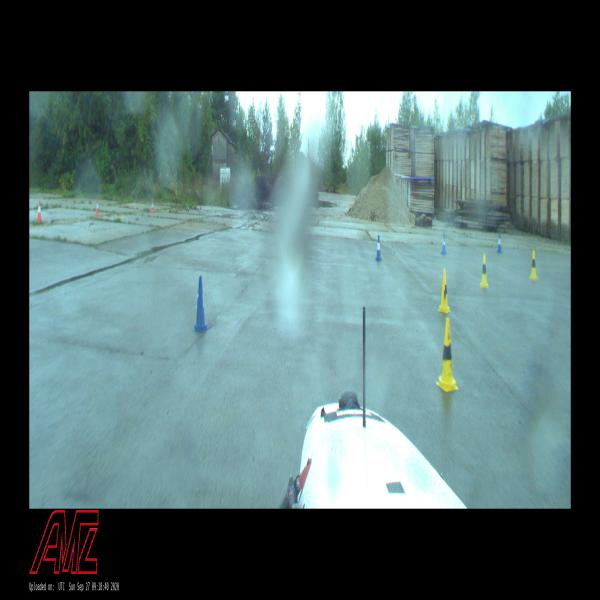blue_cone: (193, 275, 209, 333), (376, 234, 382, 262), (440, 233, 446, 256), (496, 232, 502, 252)
orange_cone: (37, 200, 42, 220), (95, 199, 99, 216), (151, 198, 154, 213)
yellow_cone: (437, 318, 458, 390), (438, 270, 450, 313), (480, 254, 488, 288), (530, 250, 538, 279)
